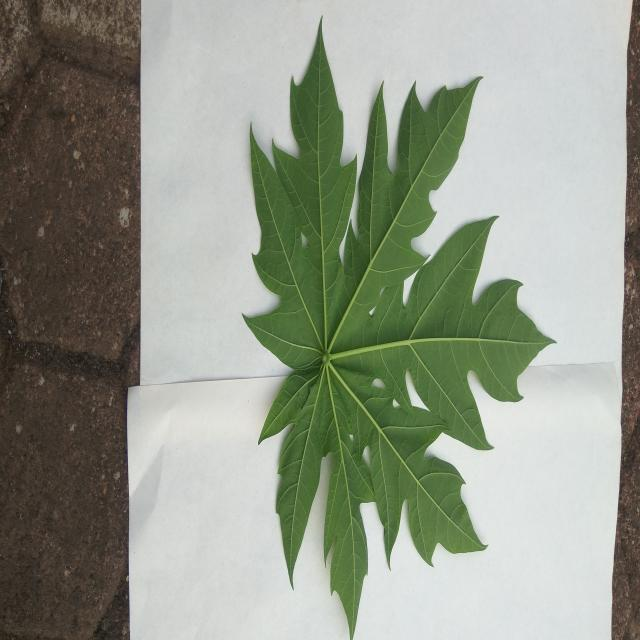papaya: (245, 24, 551, 636)
